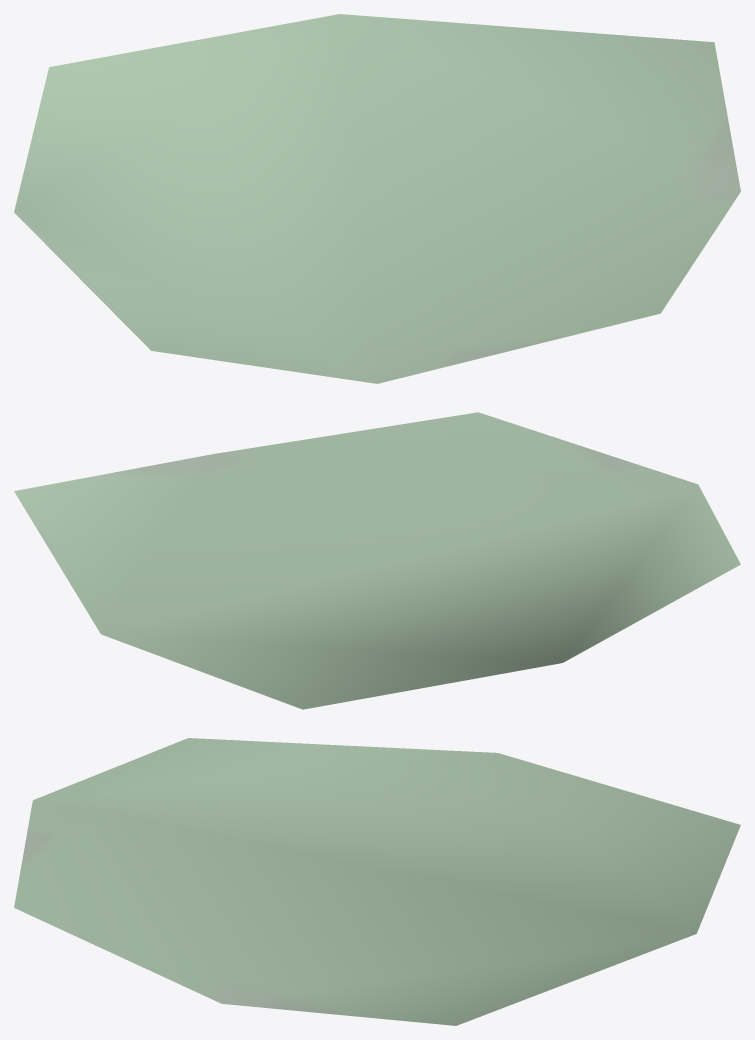
Rendered from TROLLHOLE02_HOLECAP168.fbx.
3 views of the same model, one above another, from view 1: azimuth 30°, elevation 25°; view 2: azimuth 150°, elevation 25°; view 3: azimuth 270°, elevation 25° (orthographic). The views are drawn at different scales.
Parts seen in each view (by area): view 1: TROLLHOLE02_HOLECAP168; view 2: TROLLHOLE02_HOLECAP168; view 3: TROLLHOLE02_HOLECAP168.
Boxes of the visible parts, bbox=[...] form: TROLLHOLE02_HOLECAP168: bbox=[14, 14, 740, 383]; TROLLHOLE02_HOLECAP168: bbox=[14, 412, 740, 709]; TROLLHOLE02_HOLECAP168: bbox=[14, 738, 740, 1025].
Size of the model in its own units: 24084 by 859 by 23951.
Materials: 1 (1 with a texture image).
